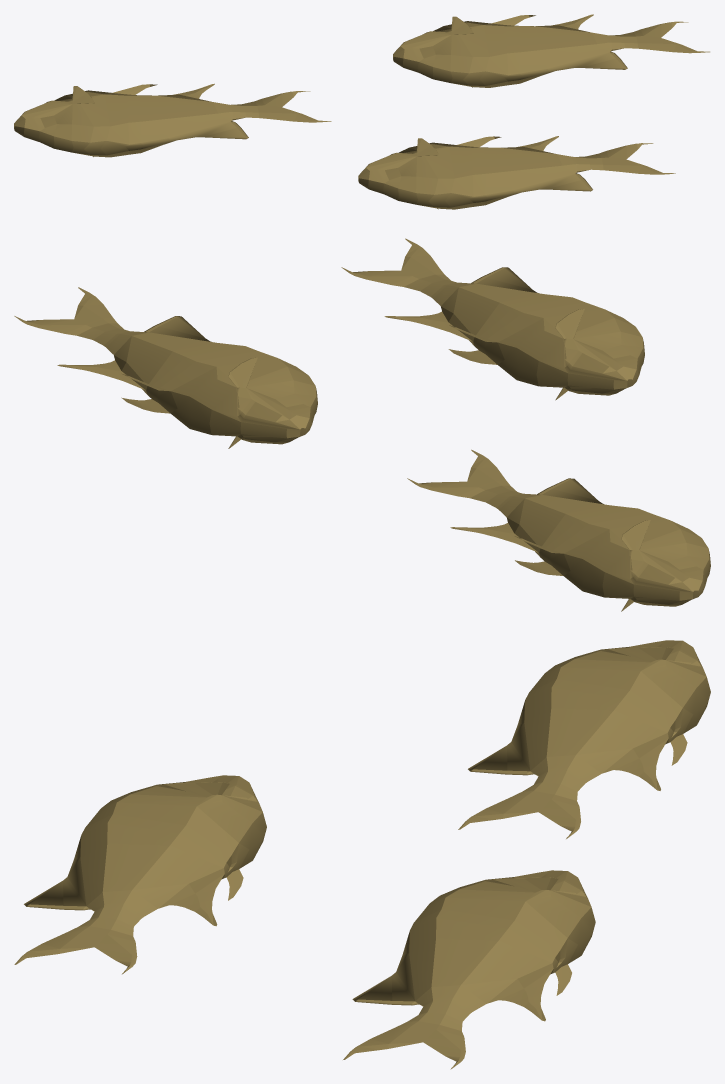
File: bonfire(onlyfish).fbx
3 renders of one model, top to bottom at view 1: azimuth 30°, elevation 25°; view 2: azimuth 150°, elevation 25°; view 3: azimuth 270°, elevation 25°, orthographic. The views are drawn at different scales.
Visible parts, largest first — view 1: fish; view 2: fish; view 3: fish.
Part boxes in pixels (box(x1,y1,x2,y2)): fish: box(14, 14, 709, 209); fish: box(14, 238, 710, 611); fish: box(14, 640, 710, 1069).
Bounding box in the file's own units: 15.46 × 1.78 × 10.26.
